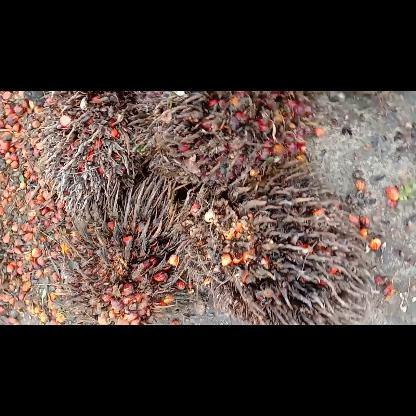Terlalu masak: (158, 154, 376, 324), (38, 172, 209, 324), (121, 91, 322, 205), (20, 91, 160, 211)
